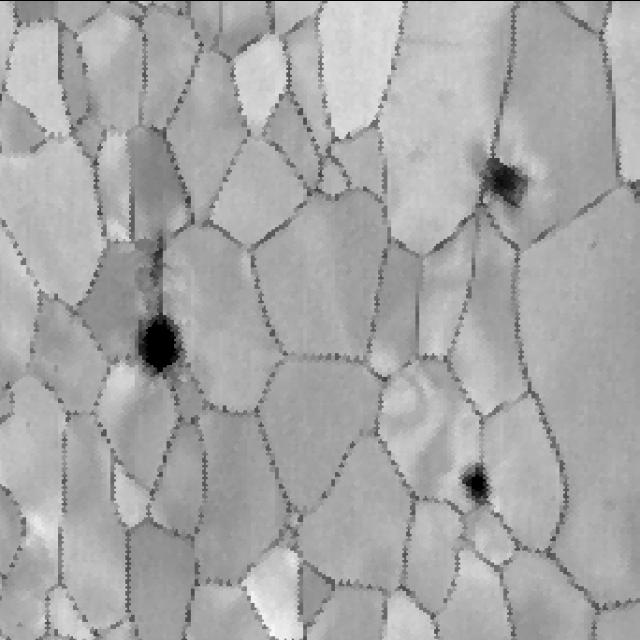good_void: (122, 297, 196, 383), (470, 142, 540, 221), (133, 223, 184, 293), (443, 456, 498, 507)
